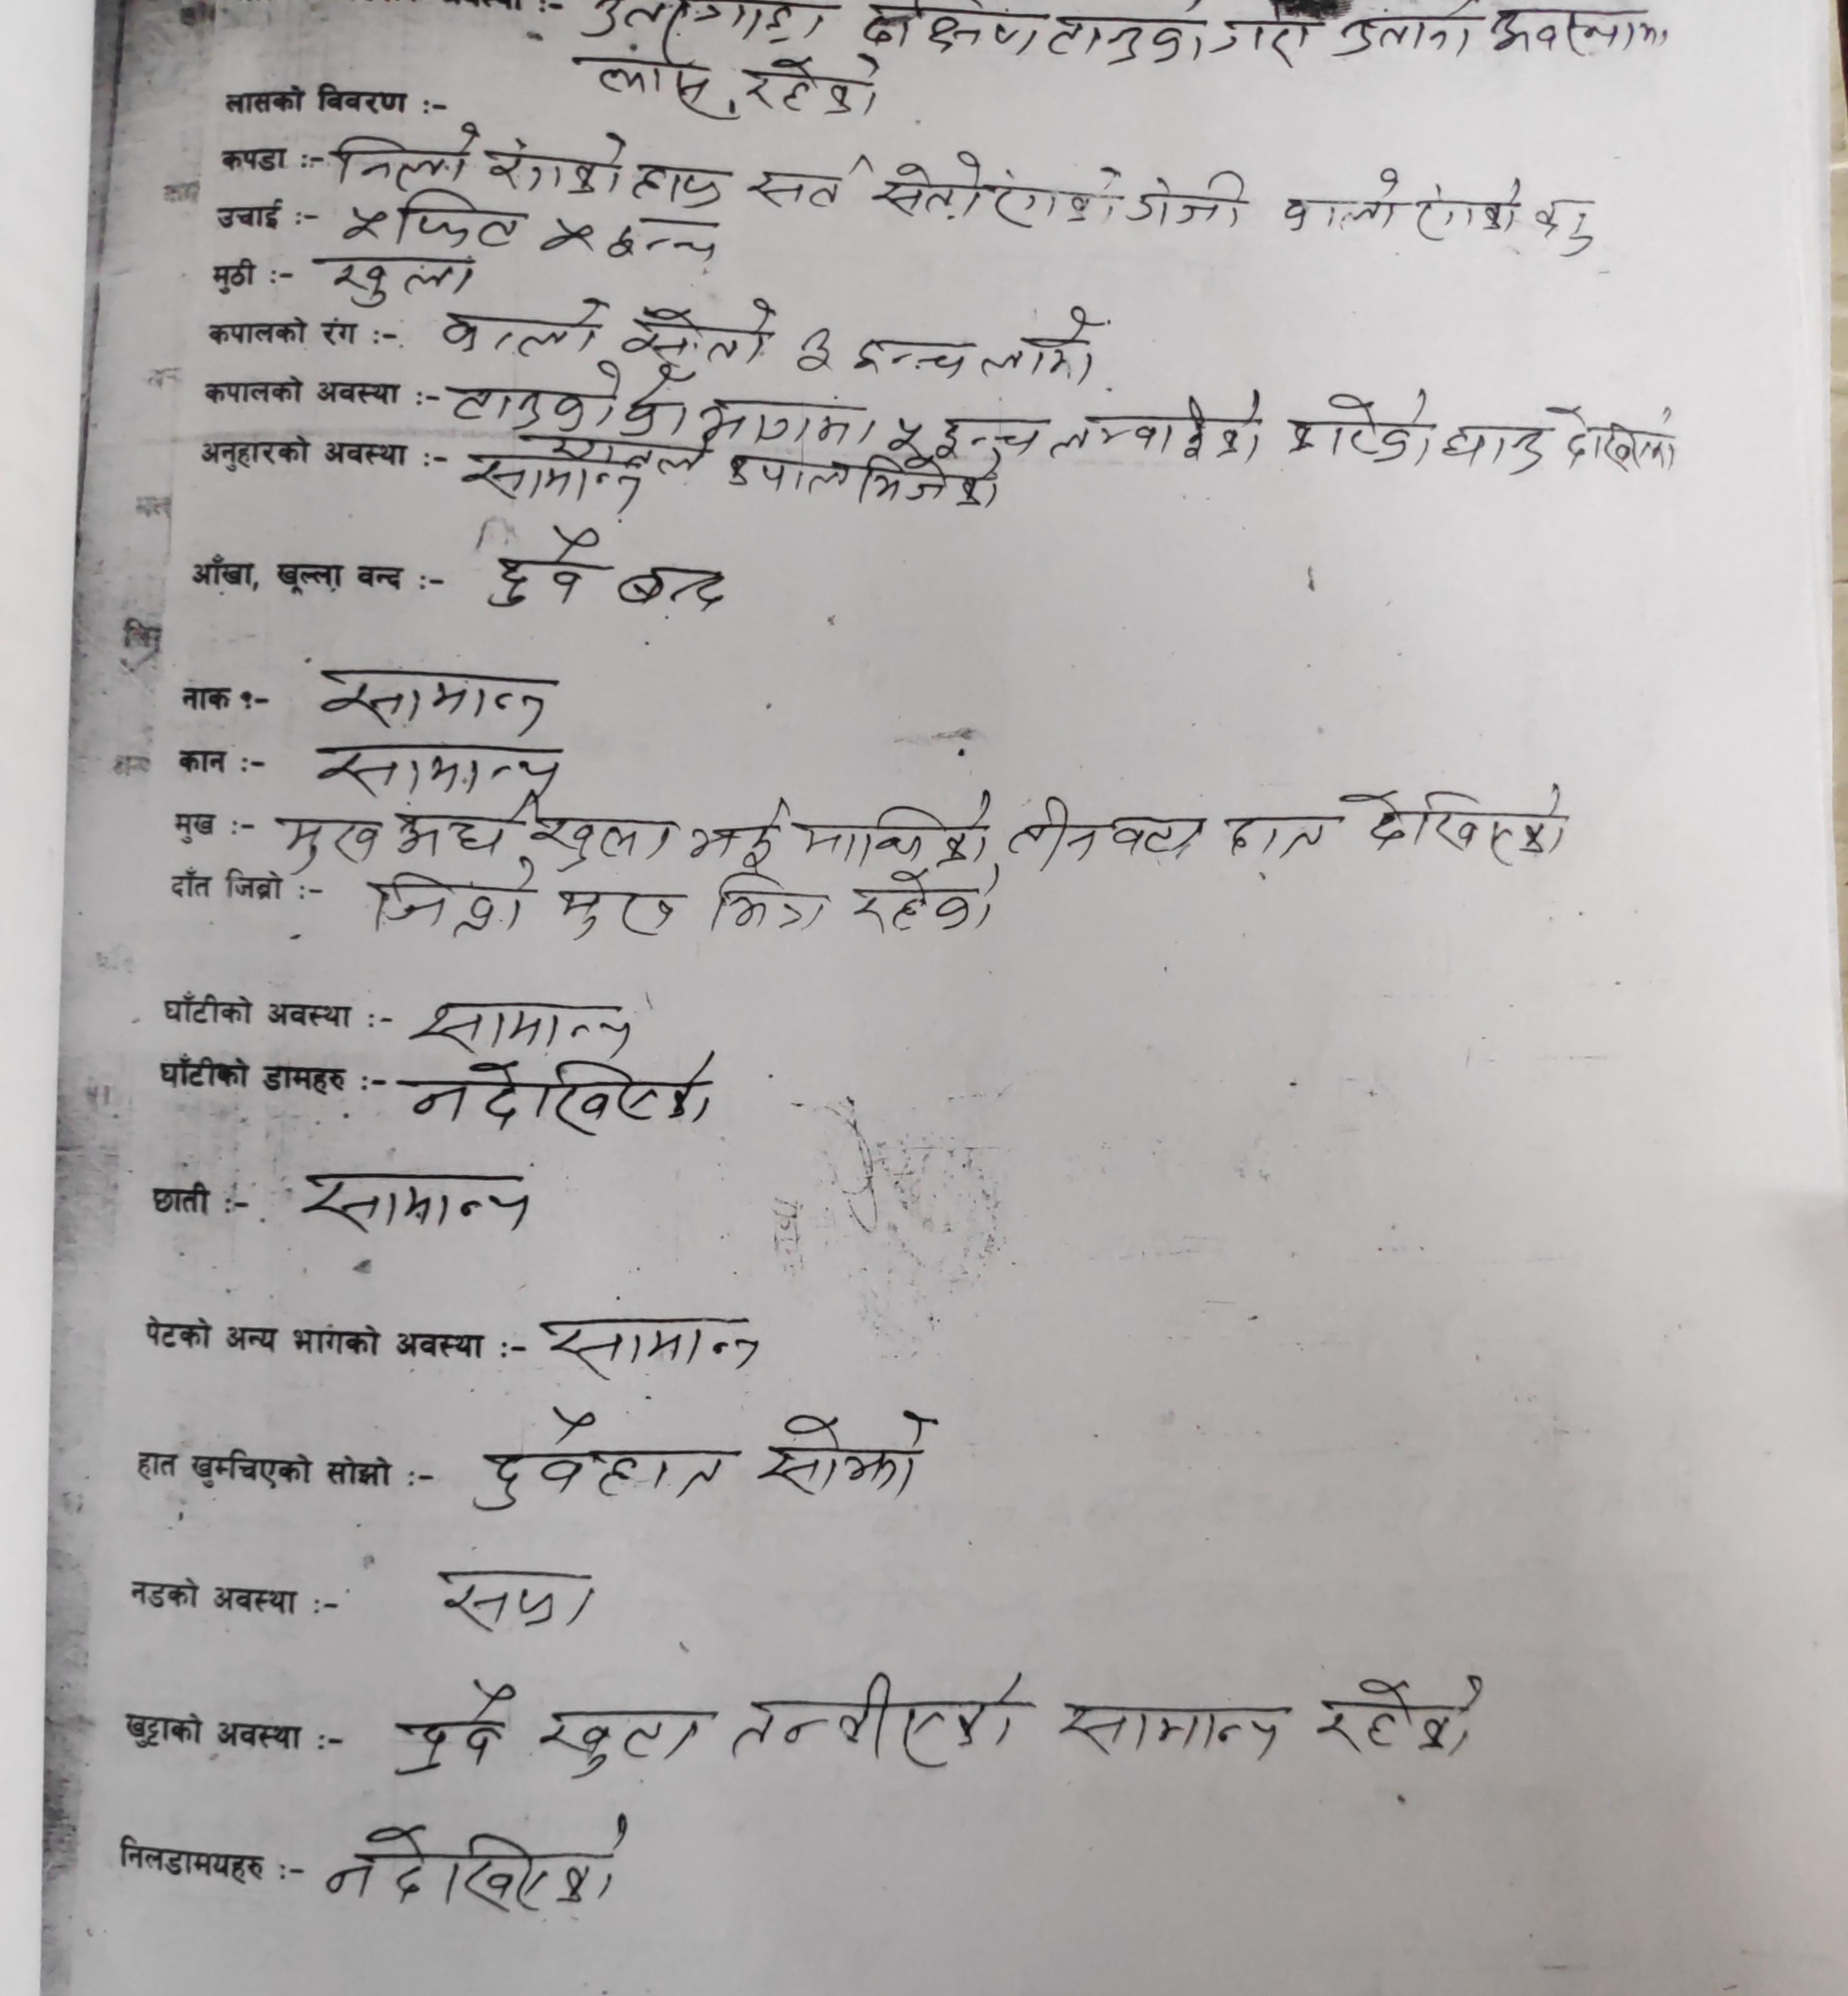text: (721, 1666, 1026, 1777), (322, 1815, 633, 1916), (468, 1407, 732, 1511), (396, 1057, 716, 1137), (881, 146, 1127, 235), (1339, 781, 1580, 862), (289, 1165, 542, 1241), (316, 661, 563, 737), (1047, 384, 1267, 469), (1055, 1695, 1292, 1770), (438, 365, 692, 435), (311, 734, 565, 802), (753, 1408, 939, 1499), (1311, 1671, 1486, 1765), (796, 788, 998, 869), (544, 1307, 767, 1381), (412, 993, 645, 1061), (384, 1678, 518, 1780), (1276, 386, 1436, 469), (363, 866, 530, 942), (621, 299, 779, 379), (532, 1707, 708, 1779), (438, 1561, 593, 1641), (452, 450, 645, 513), (977, 299, 1104, 393), (485, 120, 629, 202), (475, 525, 602, 614), (330, 118, 483, 191), (1481, 2, 1674, 59), (697, 395, 876, 456), (1047, 2, 1205, 70), (734, 54, 892, 122), (440, 296, 603, 360), (527, 808, 681, 876), (850, 868, 1000, 937), (854, 7, 1047, 59), (589, 37, 718, 115), (323, 249, 480, 313), (1274, 162, 1405, 238), (681, 793, 791, 878), (1558, 403, 1678, 478), (1127, 167, 1252, 238), (548, 880, 681, 944), (393, 796, 522, 862), (706, 871, 831, 937), (742, 155, 878, 216), (395, 186, 525, 249), (266, 803, 382, 873), (1339, 3, 1472, 63), (1439, 412, 1552, 482), (1408, 176, 1526, 242), (1212, 2, 1321, 70), (854, 327, 972, 386), (1005, 795, 1102, 866), (614, 558, 735, 614), (1227, 805, 1335, 868), (732, 449, 854, 502), (937, 407, 1050, 461), (1111, 807, 1208, 866), (1528, 188, 1601, 266), (628, 156, 723, 209), (530, 210, 591, 259), (791, 322, 838, 376), (883, 410, 932, 459), (339, 200, 386, 250)
